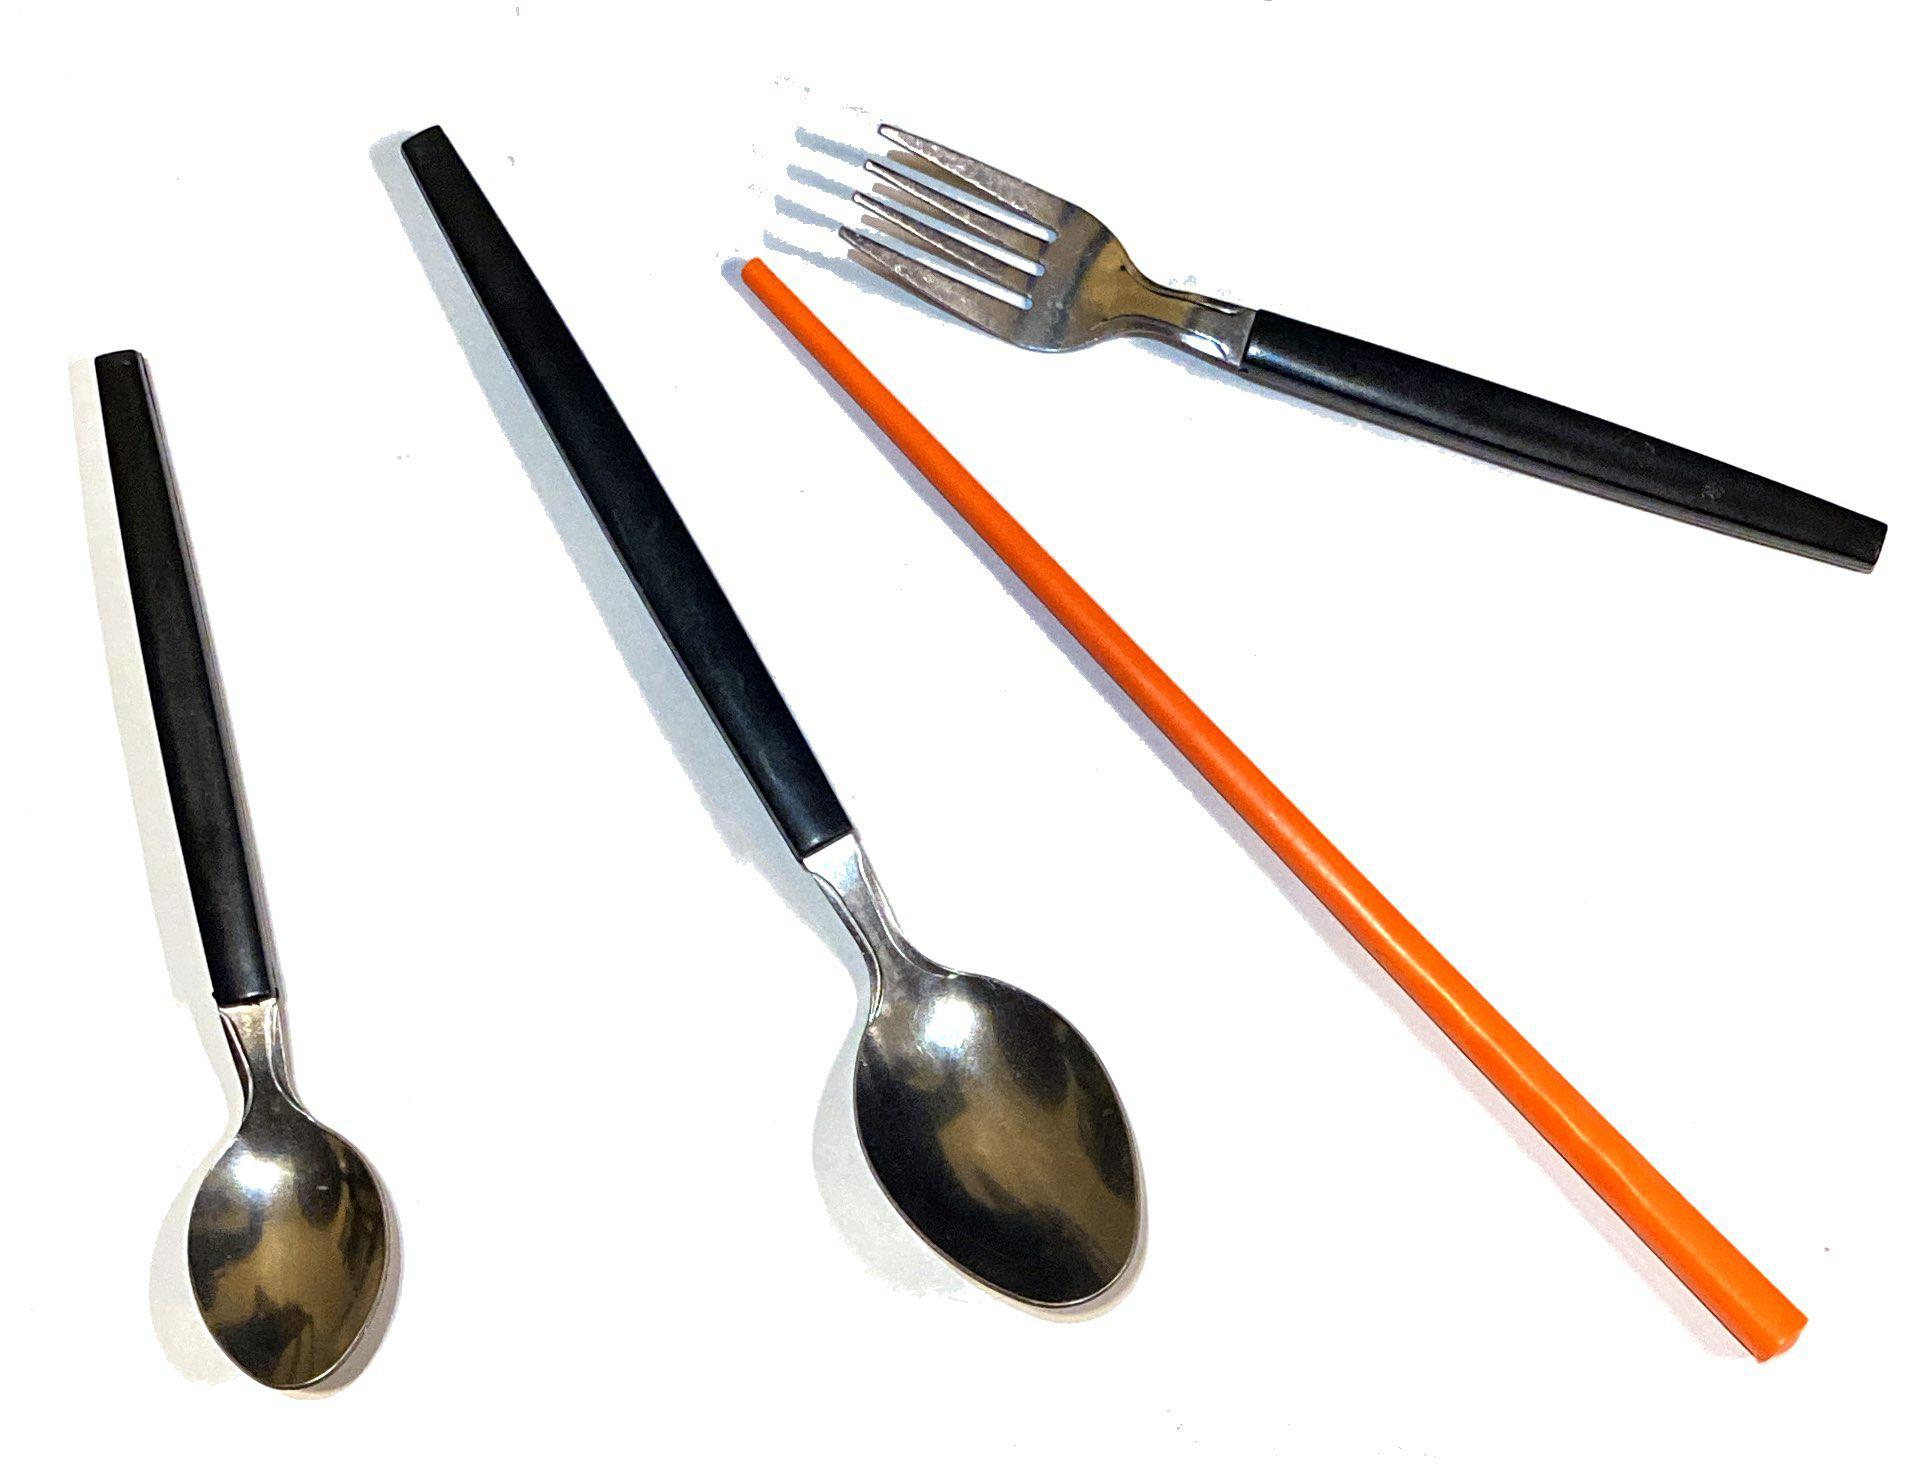Chopstick: (727, 254, 1857, 1410)
Fork: (839, 105, 1896, 618)
Spoon: (363, 109, 1178, 1382), (38, 343, 486, 1416)
